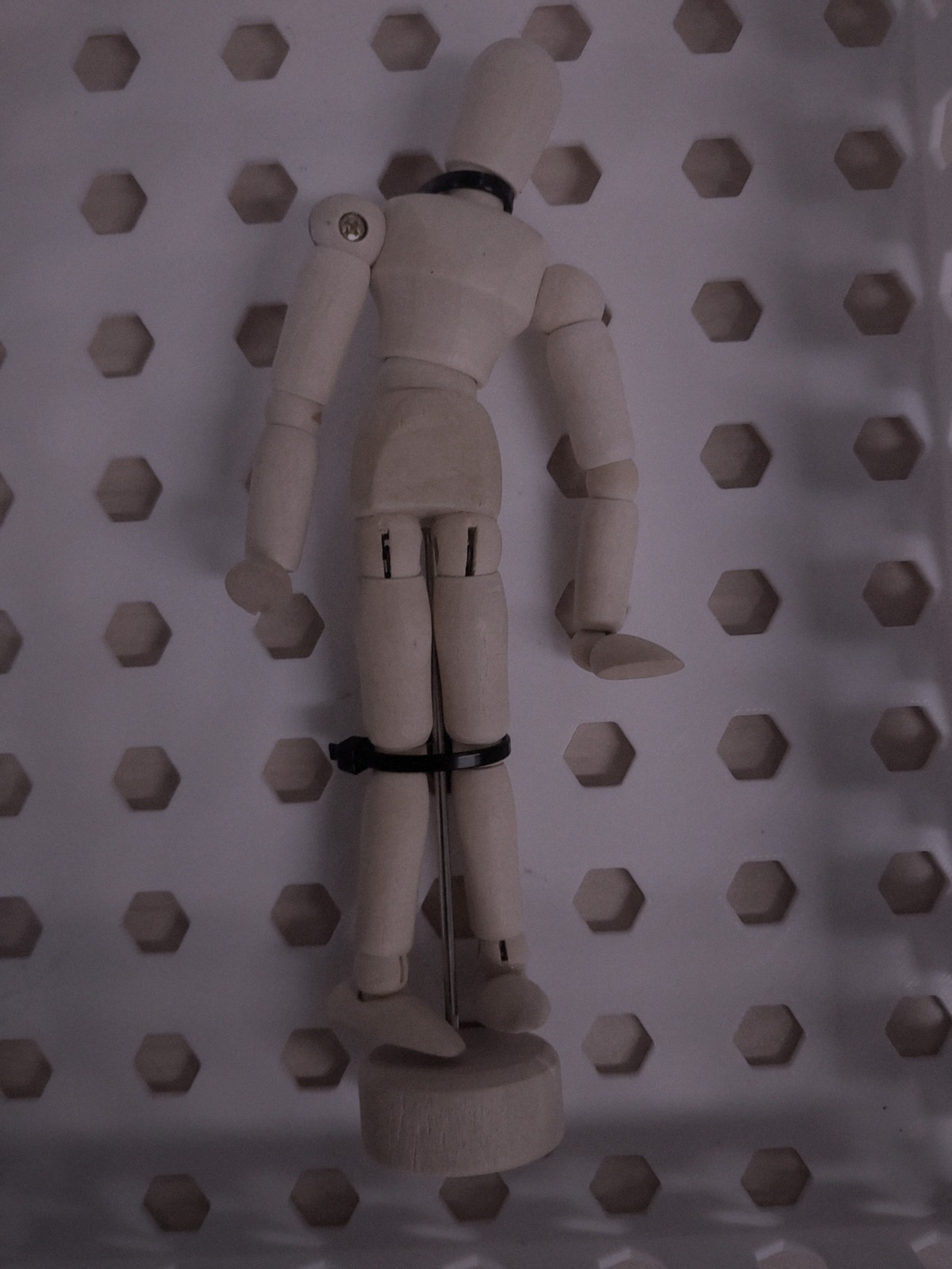mannequin: (234, 30, 697, 1176)
